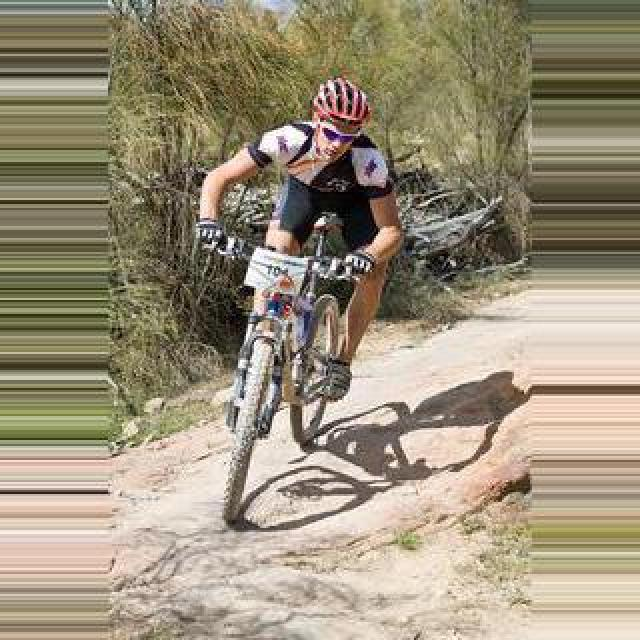MC-Bike: (194, 70, 406, 410)
Person: (198, 214, 368, 534)
